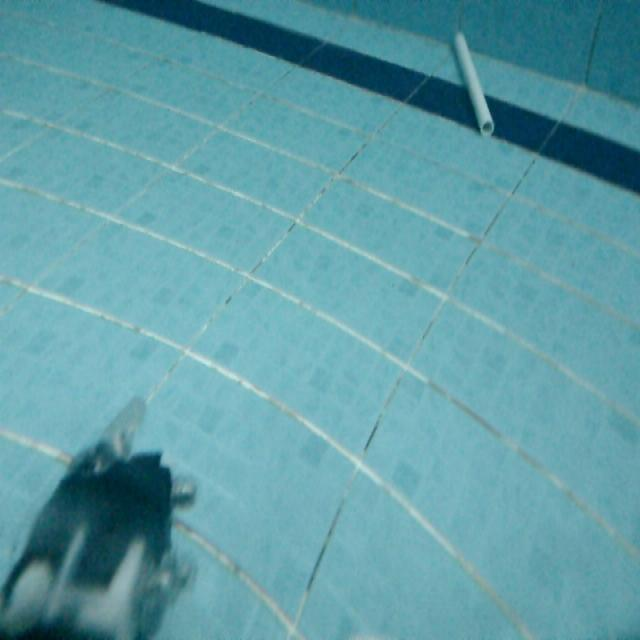Cube: (449, 25, 497, 139)
